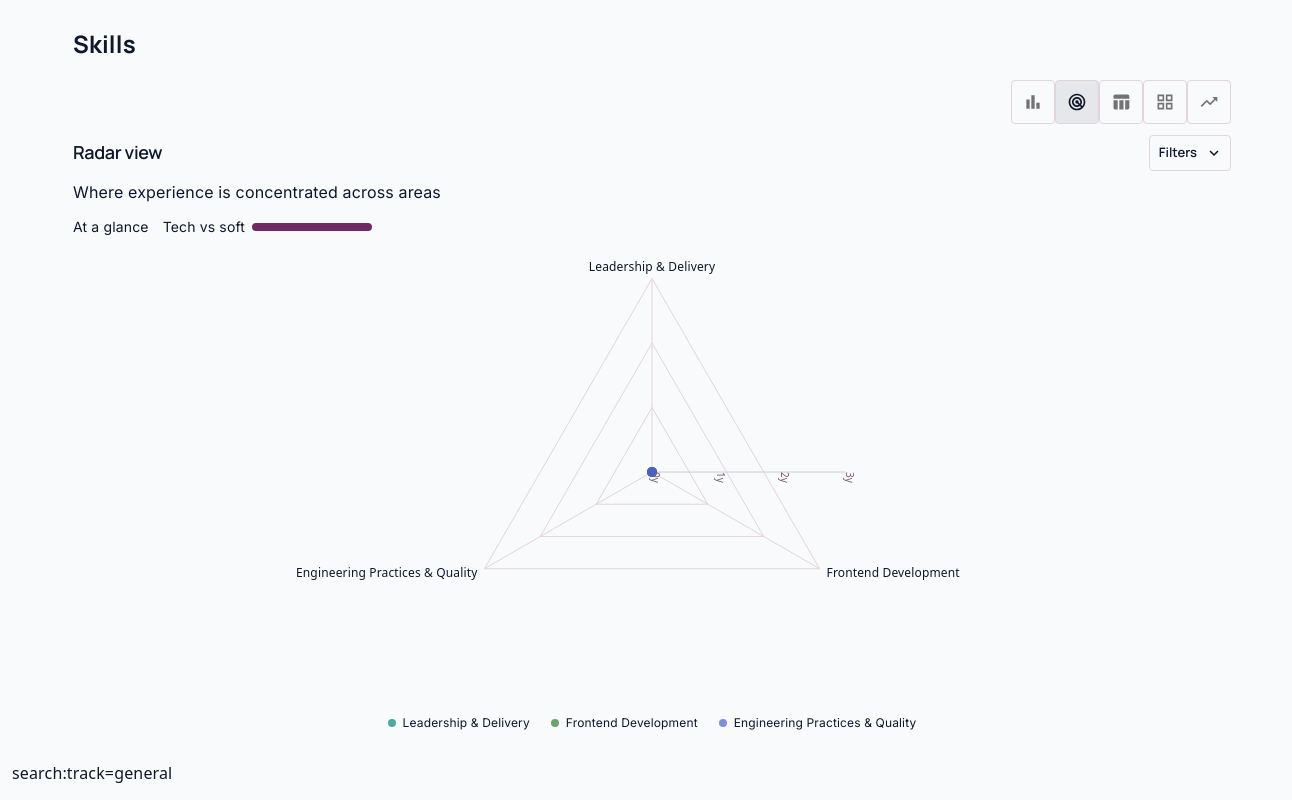
Skills › subcategory filter URL sync › reflects a subcategory filter selection as a URL query param
The width and height of the screenshot is (1292, 800).
Click the button "Filters" at [1190, 153], box [1149,135,1231,171]
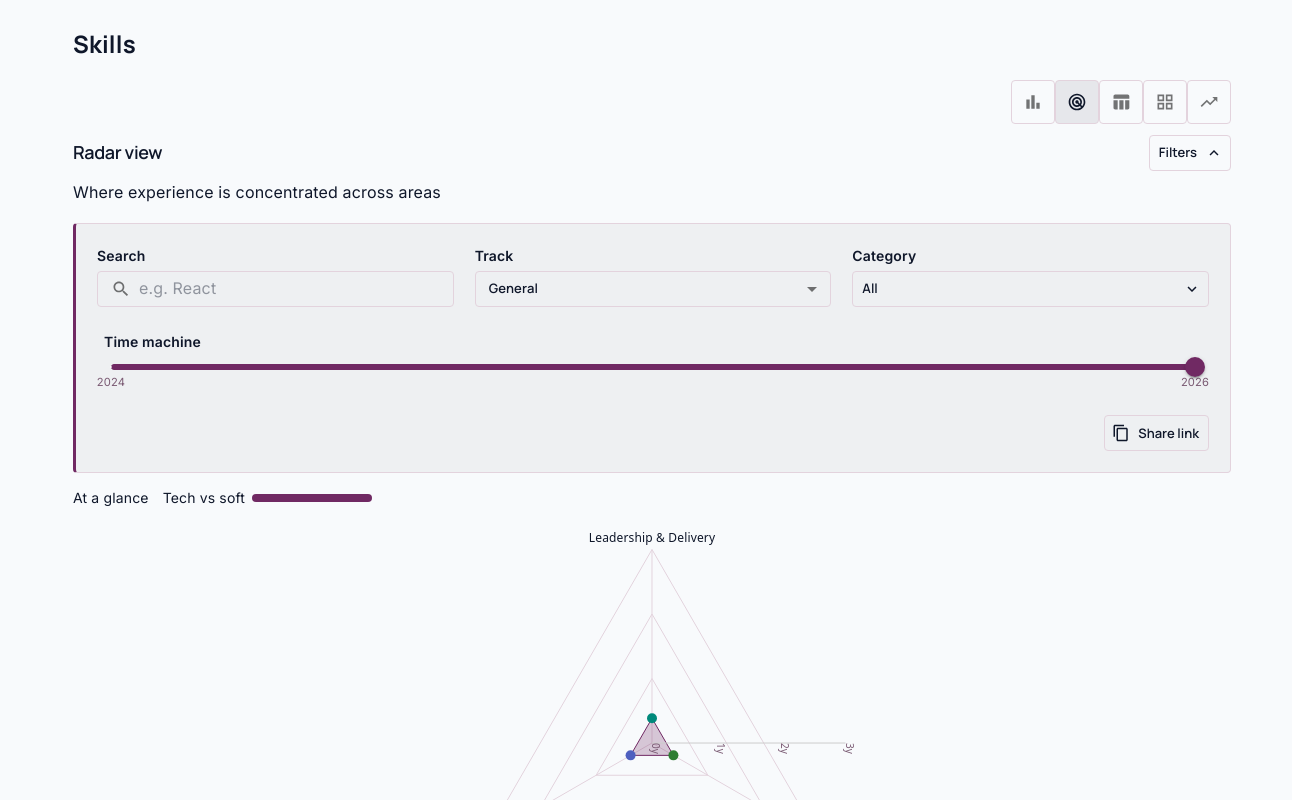
Click the button with aria-label "Filter skills by category, currently: All" at [870, 288], box [852,271,1209,307]
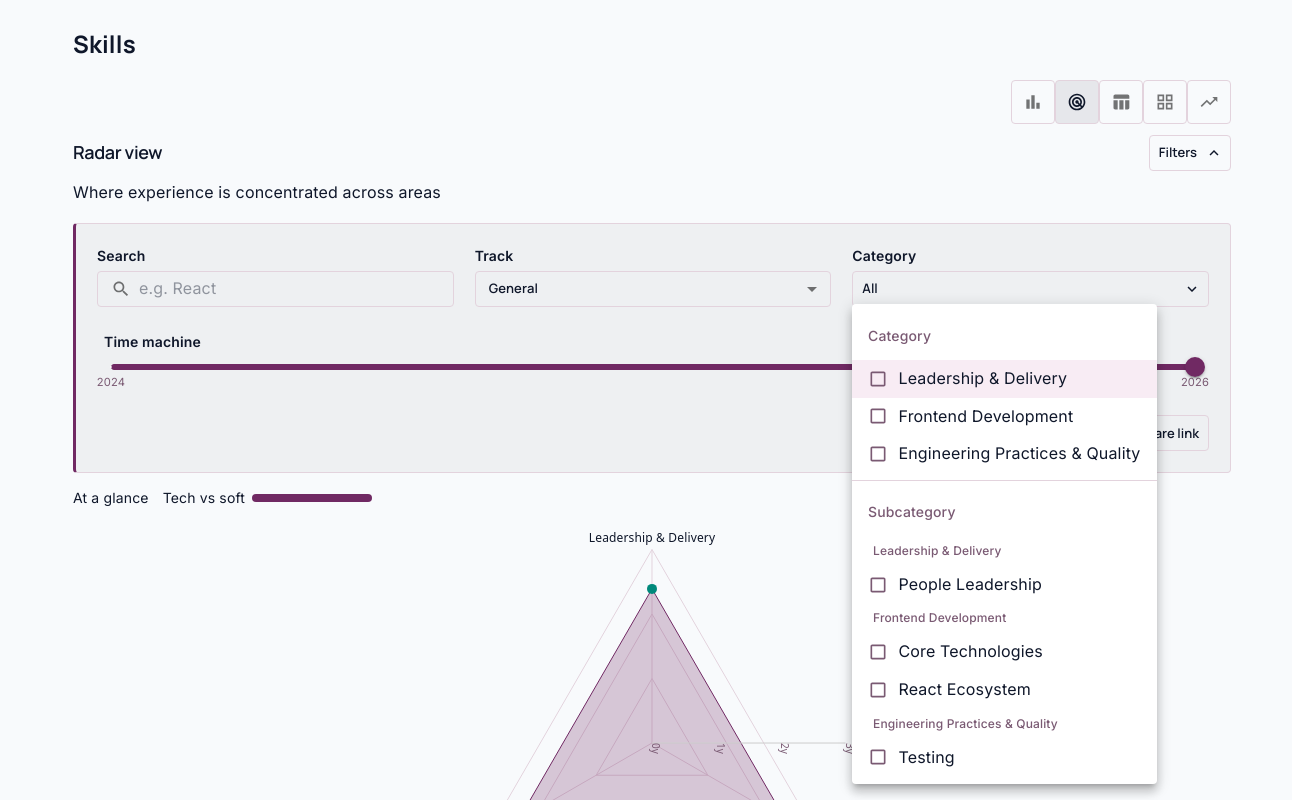
Click the menu item "Testing" at [911, 757], box [868,747,955,767]
(page scrolled)
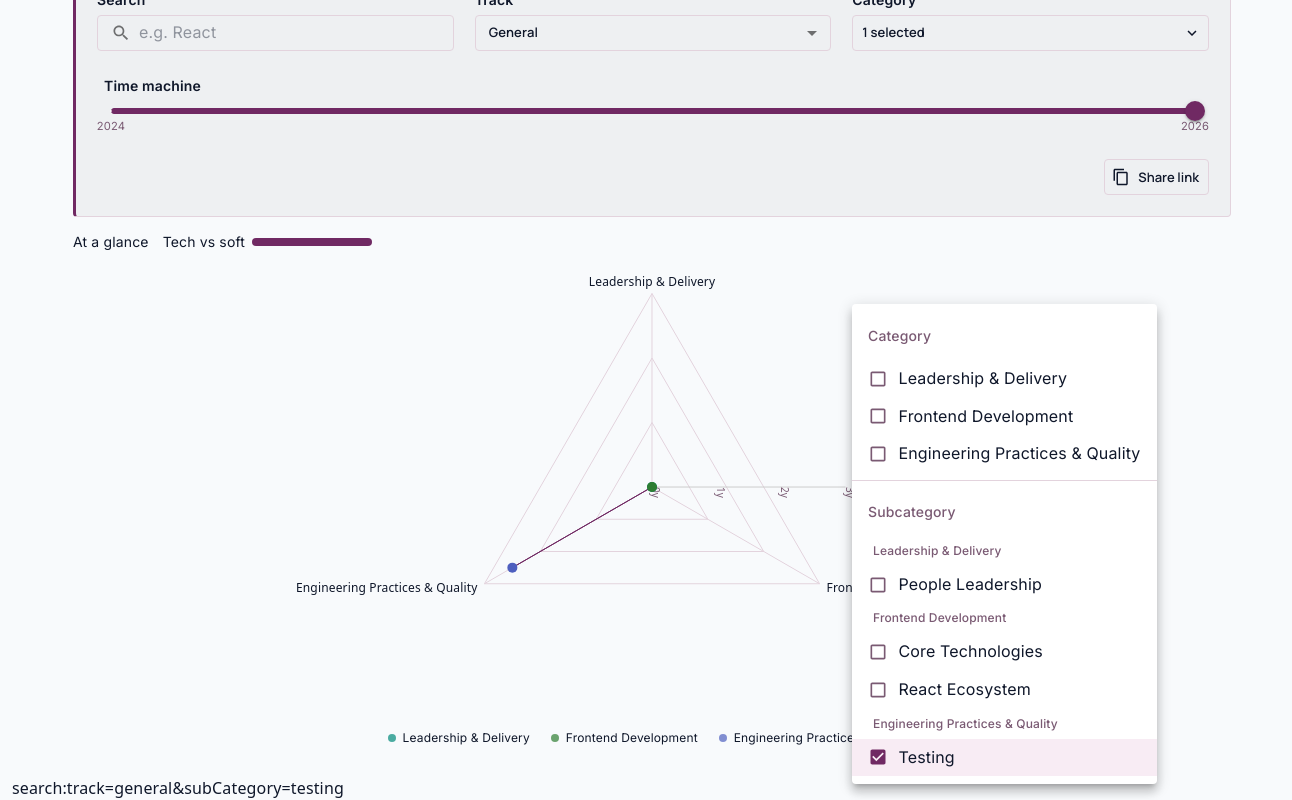
expect the text "search:track=general&subCategory=testing" is shown: met, box [12,777,344,799]
